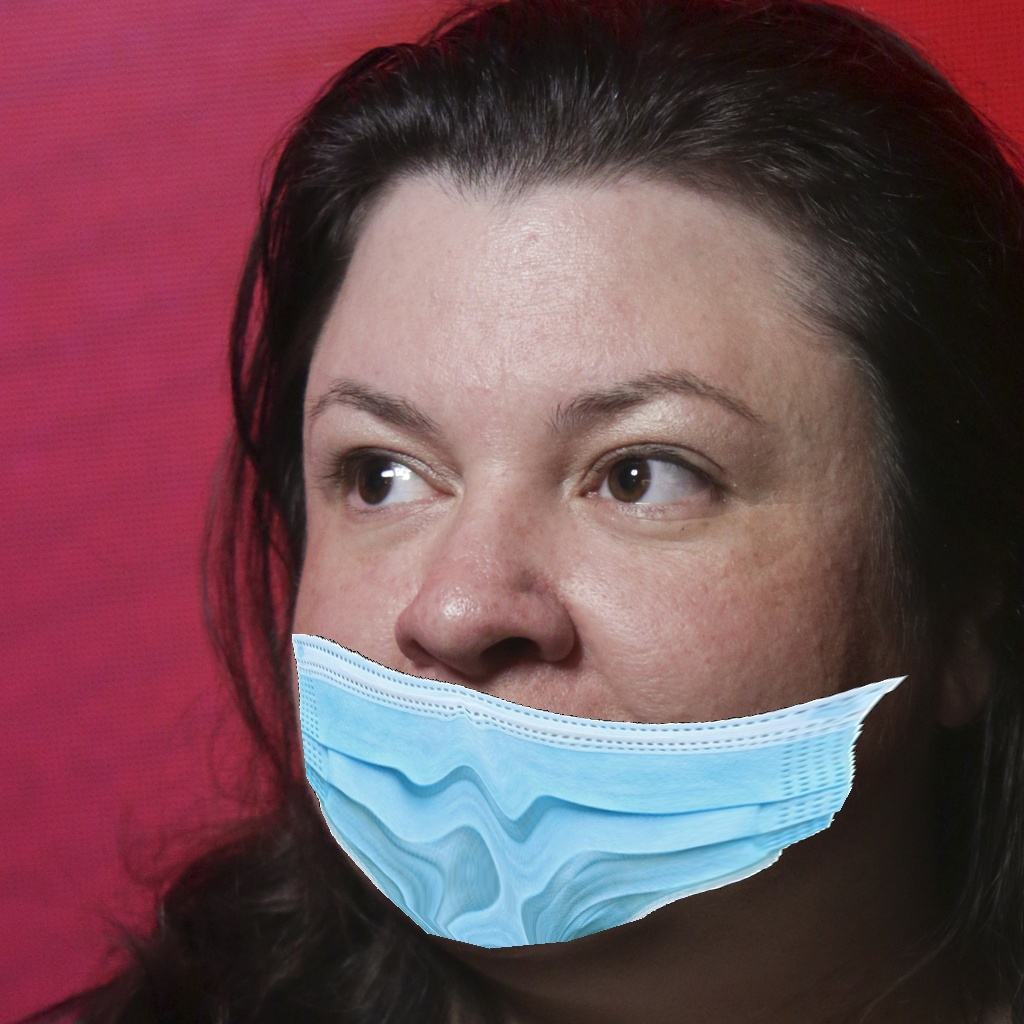mask_weared_incorrect: (256, 350, 924, 965)
